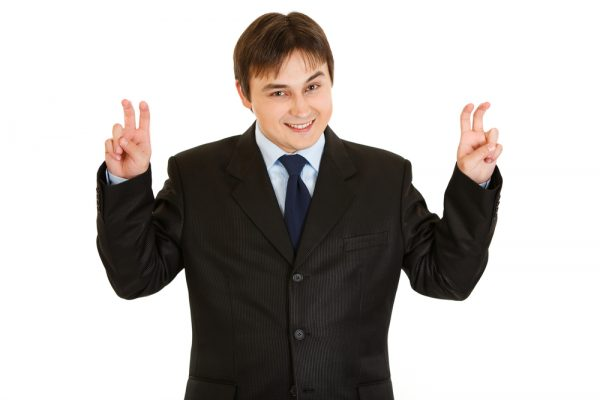face: (236, 52, 335, 150)
hand: (98, 95, 154, 175), (455, 100, 505, 182)
